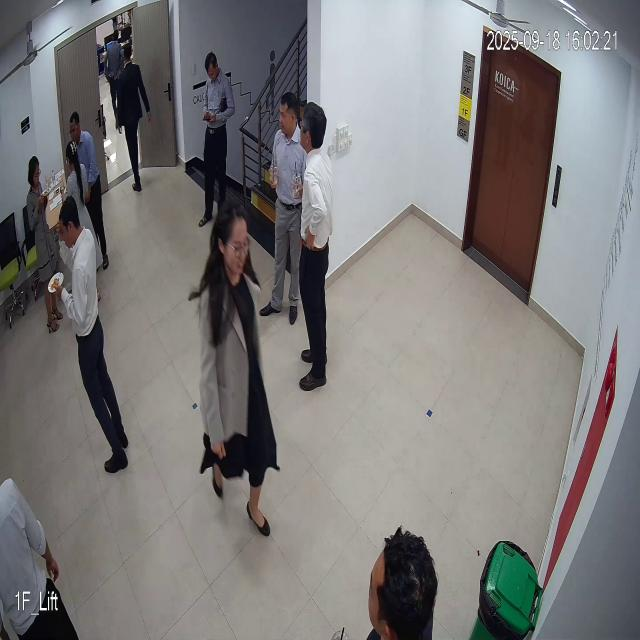face: (208, 191, 252, 281)
